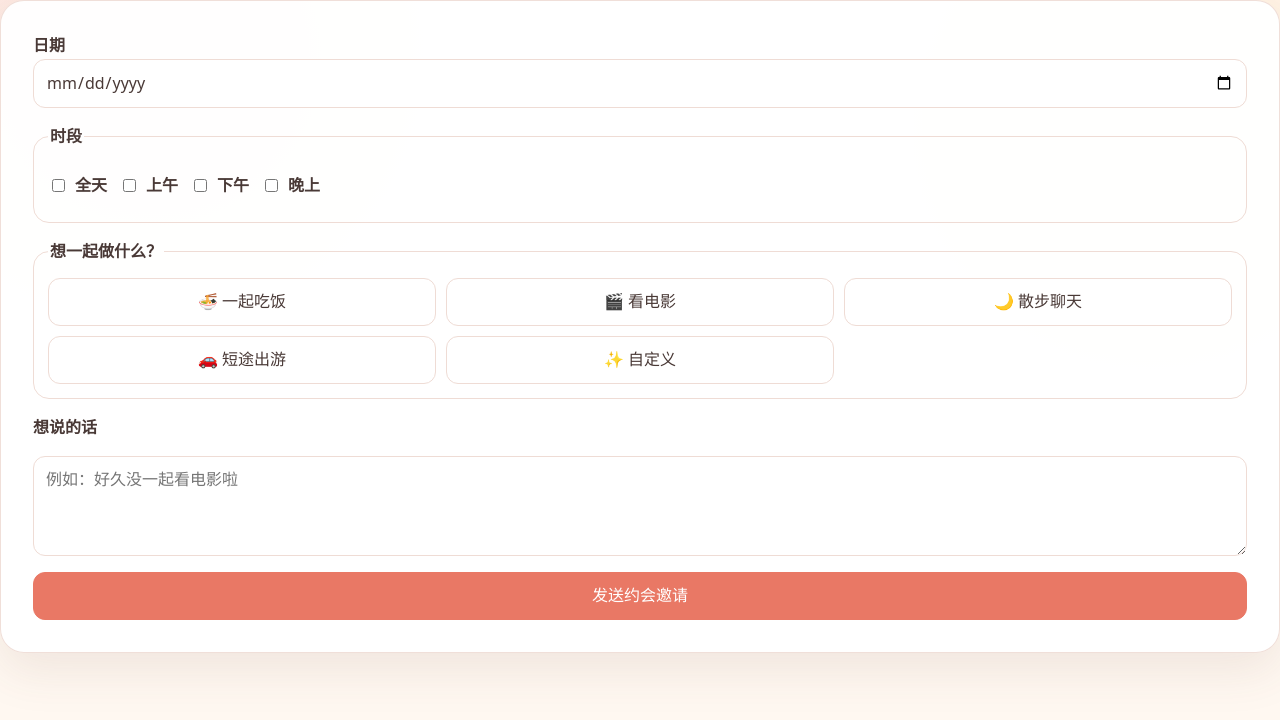
Test case: shows field errors when required values are missing
Click the button "发送约会邀请" at (640, 596), box [33,572,1247,620]
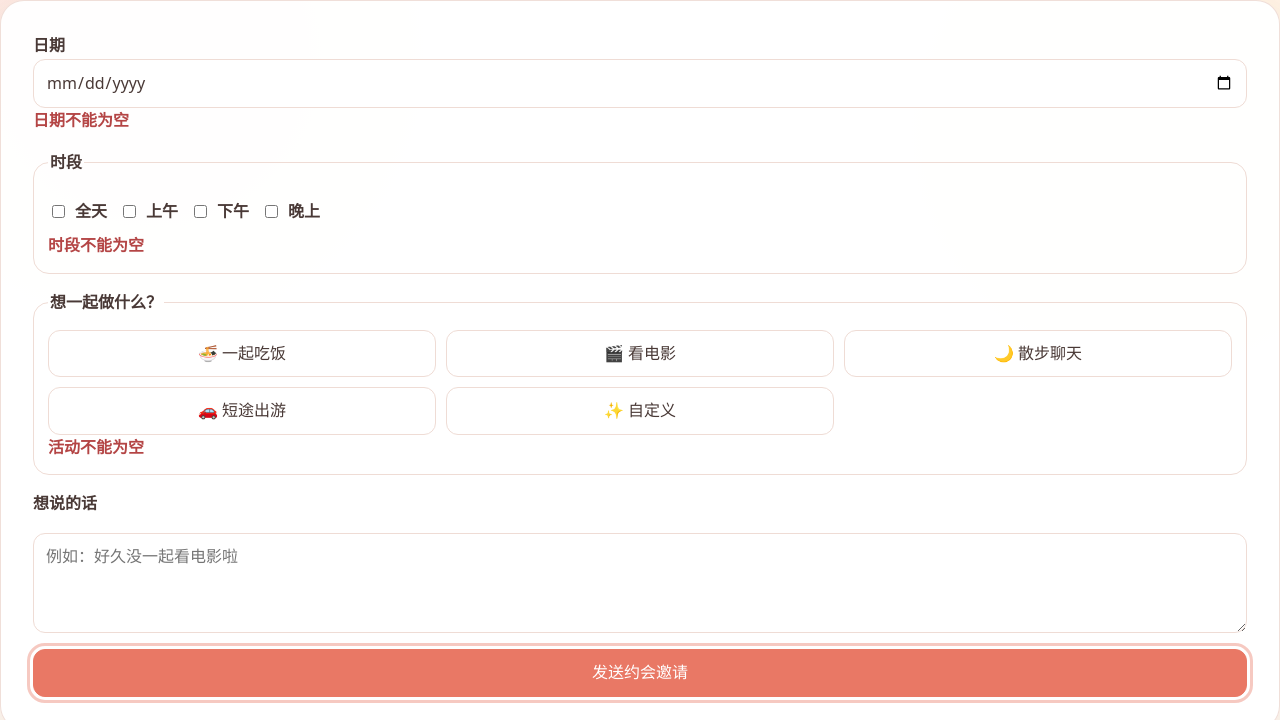
Result: the text "日期不能为空" is shown at [33,109,129,131]
Result: the text "时段不能为空" is shown at [48,234,144,256]
Result: the text "活动不能为空" is shown at [48,436,144,458]
